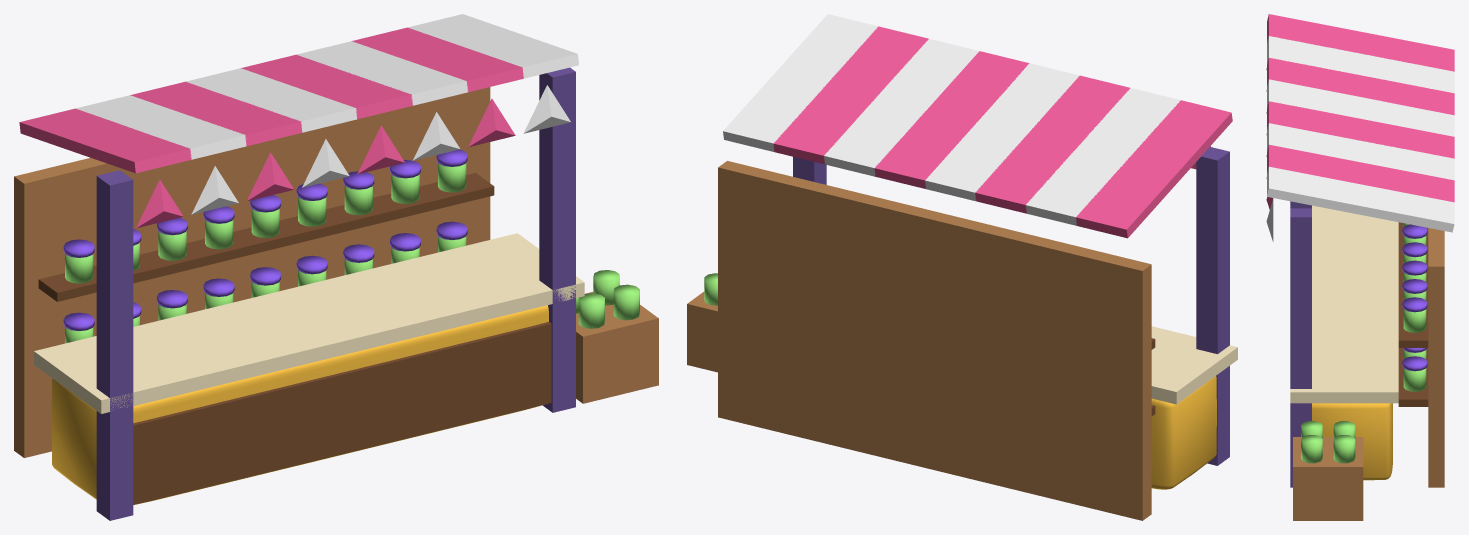
The model's file is P_MartStall.fbx.
3 renders of one model, left to right at view 1: azimuth 30°, elevation 25°; view 2: azimuth 150°, elevation 25°; view 3: azimuth 270°, elevation 25°, orthographic. The views are drawn at different scales.
Parts seen in each view (by area): view 1: P_MartStall__Wood, P_MartStall__WoodDark, P_MartStall__Top, P_MartStall__StripeA, P_MartStall__Post, P_MartStall__StripeB, P_MartStall__Counter, P_MartStall__Jar, P_MartStall__Lid; view 2: P_MartStall__Wood, P_MartStall__StripeA, P_MartStall__StripeB, P_MartStall__Post, P_MartStall__Counter, P_MartStall__Top; view 3: P_MartStall__StripeB, P_MartStall__StripeA, P_MartStall__Top, P_MartStall__Wood, P_MartStall__Post, P_MartStall__Jar, P_MartStall__Counter, P_MartStall__WoodDark, P_MartStall__Lid.
Boxes of the visible parts, x1,y1,x2,y2 form: P_MartStall__Wood: [14, 87, 658, 457]; P_MartStall__WoodDark: [38, 172, 551, 504]; P_MartStall__Top: [34, 233, 584, 413]; P_MartStall__StripeA: [19, 27, 523, 228]; P_MartStall__Post: [96, 67, 575, 520]; P_MartStall__StripeB: [76, 14, 578, 214]; P_MartStall__Counter: [51, 305, 548, 504]; P_MartStall__Jar: [65, 163, 639, 343]; P_MartStall__Lid: [63, 149, 467, 330]; P_MartStall__Wood: [687, 161, 1151, 520]; P_MartStall__StripeA: [773, 26, 1232, 238]; P_MartStall__StripeB: [723, 14, 1180, 225]; P_MartStall__Post: [793, 147, 1229, 465]; P_MartStall__Counter: [1151, 376, 1216, 489]; P_MartStall__Top: [1151, 326, 1237, 404]; P_MartStall__StripeB: [1266, 36, 1454, 241]; P_MartStall__StripeA: [1266, 14, 1454, 209]; P_MartStall__Top: [1290, 205, 1398, 403]; P_MartStall__Wood: [1293, 228, 1444, 520]; P_MartStall__Post: [1290, 201, 1311, 487]; P_MartStall__Jar: [1301, 223, 1426, 463]; P_MartStall__Counter: [1312, 403, 1392, 480]; P_MartStall__WoodDark: [1398, 222, 1428, 406]; P_MartStall__Lid: [1402, 224, 1427, 371].
Size of the model in its own units: 19.2 by 12 by 6.93.
